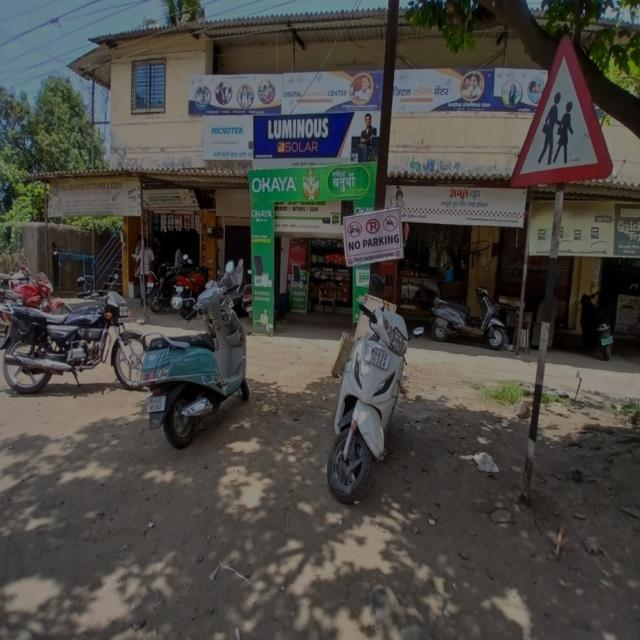illegalparking: (2, 201, 440, 525)
